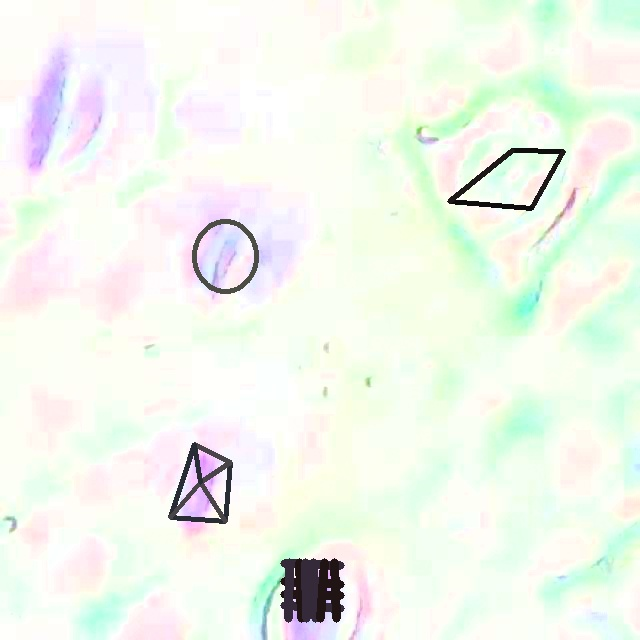close: (447, 148, 565, 210)
open: (168, 442, 232, 523), (191, 217, 258, 294), (281, 559, 343, 622)
